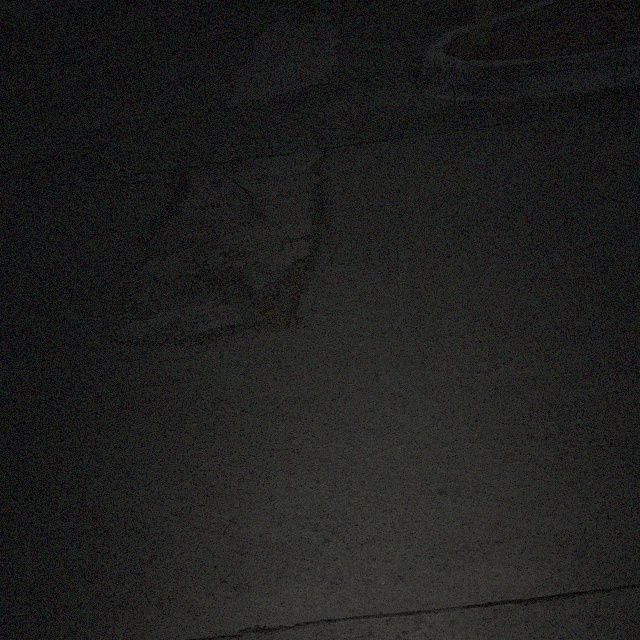pothole: (254, 250, 317, 330), (153, 171, 194, 236), (308, 156, 327, 238), (189, 268, 230, 299)
